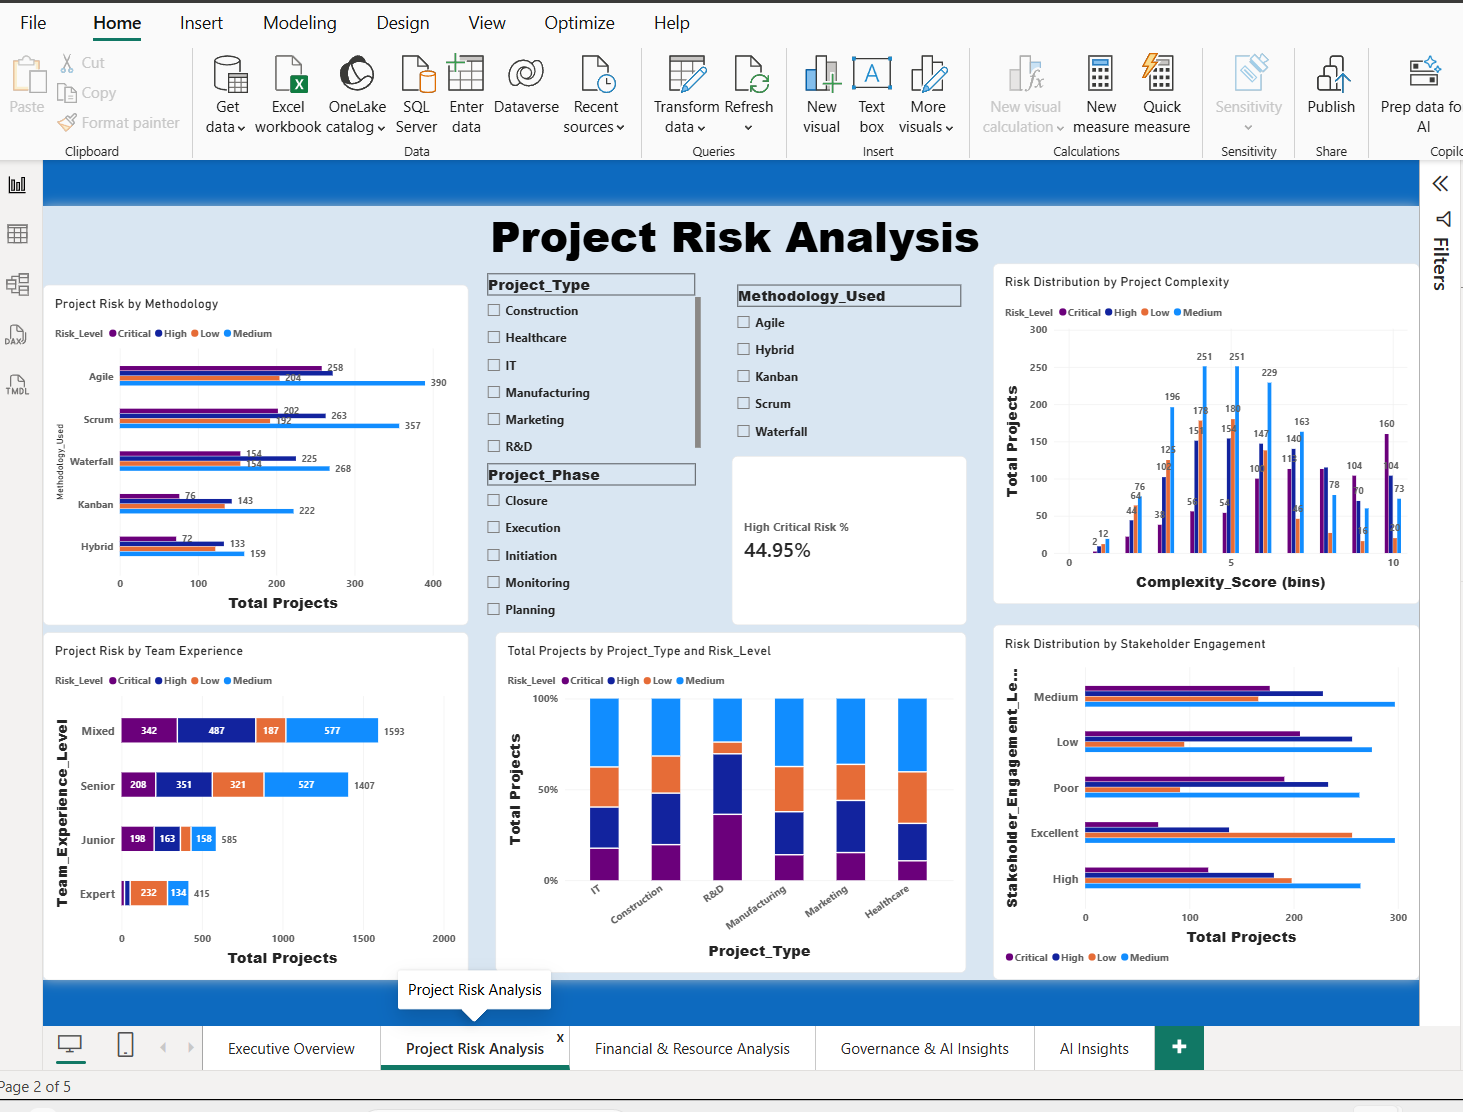

Layout of this report page (visuals, bound fields, positions):
{"tool":"powerbi","page":{"name":"Project Risk Analysis","canvas":[1920,1080],"ordinal":1},"visuals":[{"type":"textbox","box":[10,290,280,280],"z":0},{"type":"textbox","box":[10.2,0,1910.2,110],"z":1000},{"type":"clusteredBarChart","title":"Project Risk by Methodology","fields":{"Category":["Project_Risk_Data.Methodology_Used"],"Series":["Project_Risk_Data.Risk_Level"],"Y":["Project_Risk_Data.Total Projects"]},"box":[0,110.1,593.2,475],"z":2000},{"type":"hundredPercentStackedColumnChart","fields":{"Category":["Project_Risk_Data.Project_Type"],"Series":["Project_Risk_Data.Risk_Level"],"Y":["Project_Risk_Data.Total Projects"]},"box":[632,595.3,656.4,475],"z":3000},{"type":"clusteredColumnChart","title":"Risk Distribution by Project Complexity","fields":{"Category":["Project_Risk_Data.Complexity_Score (bins)"],"Series":["Project_Risk_Data.Risk_Level"],"Y":["Project_Risk_Data.Total Projects"]},"box":[1325.1,79.5,595.3,475],"z":4000},{"type":"barChart","title":"Project Risk by Team Experience","fields":{"Category":["Project_Risk_Data.Team_Experience_Level"],"Series":["Project_Risk_Data.Risk_Level"],"Y":["Project_Risk_Data.Total Projects"]},"box":[0,595.3,593.2,485.2],"z":5000},{"type":"clusteredBarChart","title":"Risk Distribution by Stakeholder Engagement","fields":{"Category":["Project_Risk_Data.Stakeholder_Engagement_Level"],"Series":["Project_Risk_Data.Risk_Level"],"Y":["Project_Risk_Data.Total Projects"]},"box":[1325.1,585.1,595.3,495.4],"z":6000},{"type":"slicer","fields":{"Values":["Project_Risk_Data.Project_Type"]},"box":[611.6,93.8,305.8,254.8],"z":7000},{"type":"slicer","fields":{"Values":["Project_Risk_Data.Methodology_Used"]},"box":[960.2,110.1,328.2,238.5],"z":8000},{"type":"slicer","fields":{"Values":["Project_Risk_Data.Project_Phase"]},"box":[611.6,358.8,306,236],"z":9000},{"type":"cardVisual","fields":{"Data":["Project_Risk_Data.High Critical Risk %"]},"box":[960.2,348.6,328,236],"z":10000}]}

Visuals, with their boxes on the page's 1920x1080 design canvas (x1, y1, x2, y2). These are canvas units, not pixel positions in the 1463x1112 screenshot, which may show the page scaled, cropped or inside an application window:
textbox: <bbox>10, 290, 290, 570</bbox>
textbox: <bbox>10, 0, 1920, 110</bbox>
"Project Risk by Methodology" clusteredBarChart: <bbox>0, 110, 593, 585</bbox>
hundredPercentStackedColumnChart - Project_Risk_Data.Project_Type x Project_Risk_Data.Risk_Level: <bbox>632, 595, 1288, 1070</bbox>
"Risk Distribution by Project Complexity" clusteredColumnChart: <bbox>1325, 80, 1920, 554</bbox>
"Project Risk by Team Experience" barChart: <bbox>0, 595, 593, 1080</bbox>
"Risk Distribution by Stakeholder Engagement" clusteredBarChart: <bbox>1325, 585, 1920, 1080</bbox>
slicer - Project_Risk_Data.Project_Type: <bbox>612, 94, 917, 349</bbox>
slicer - Project_Risk_Data.Methodology_Used: <bbox>960, 110, 1288, 349</bbox>
slicer - Project_Risk_Data.Project_Phase: <bbox>612, 359, 918, 595</bbox>
cardVisual - Project_Risk_Data.High Critical Risk %: <bbox>960, 349, 1288, 585</bbox>
